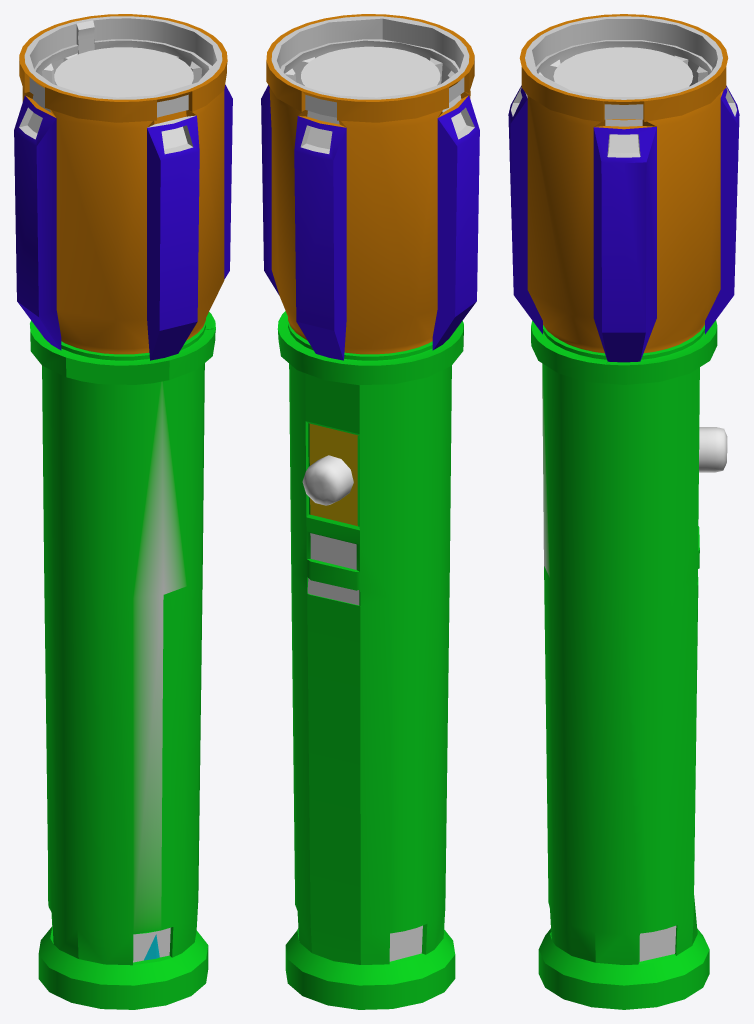
The model's file is LampeOK.fbx.
3 renders of one model, left to right at view 1: azimuth 30°, elevation 25°; view 2: azimuth 150°, elevation 25°; view 3: azimuth 270°, elevation 25°, orthographic.
Parts seen in each view (by area): view 1: BaseLampe_low, EmmisionHLow, BaseLampeEmmission; view 2: BaseLampe_low, EmmisionHLow, BaseLampeEmmission, Bouton; view 3: BaseLampe_low, EmmisionHLow, BaseLampeEmmission, Bouton.
Part boxes in pixels (<box>): BaseLampe_low: <box>14,14,232,1009</box>; EmmisionHLow: <box>54,47,193,97</box>; BaseLampeEmmission: <box>27,112,187,962</box>; BaseLampe_low: <box>261,14,479,1009</box>; EmmisionHLow: <box>301,46,440,97</box>; BaseLampeEmmission: <box>306,112,466,961</box>; Bouton: <box>302,455,353,505</box>; BaseLampe_low: <box>508,14,739,1009</box>; EmmisionHLow: <box>553,47,693,96</box>; BaseLampeEmmission: <box>608,134,676,961</box>; Bouton: <box>699,427,727,472</box>.
Size of the model in its own units: 7.19 by 31.52 by 7.19.
